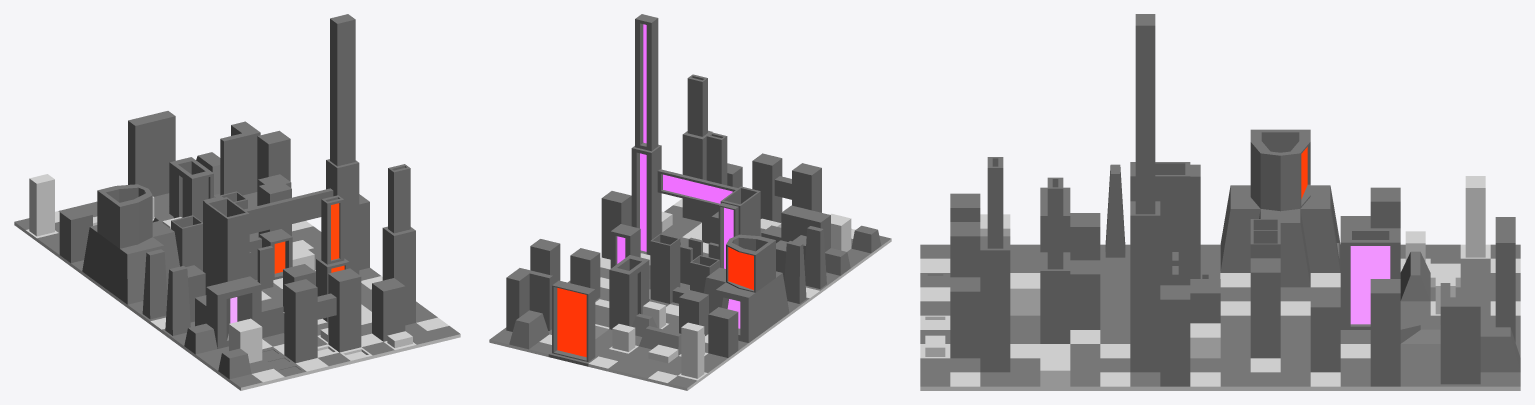
The model's file is jump chiant.fbx.
3 renders of one model, left to right at view 1: azimuth 30°, elevation 25°; view 2: azimuth 150°, elevation 25°; view 3: azimuth 270°, elevation 25°, orthographic. The views are drawn at different scales.
Parts seen in each view (by area): view 1: terrain, lave; view 2: terrain, lave; view 3: terrain, lave.
Part boxes in pixels (box(x1,y1,x2,y2)): terrain: box(14, 14, 459, 387); lave: box(14, 174, 460, 390); terrain: box(489, 14, 891, 387); lave: box(489, 198, 891, 390); terrain: box(920, 14, 1520, 386); lave: box(920, 176, 1520, 390).
Bounding box in the file's own units: 51.22 × 58.81 × 91.47.
